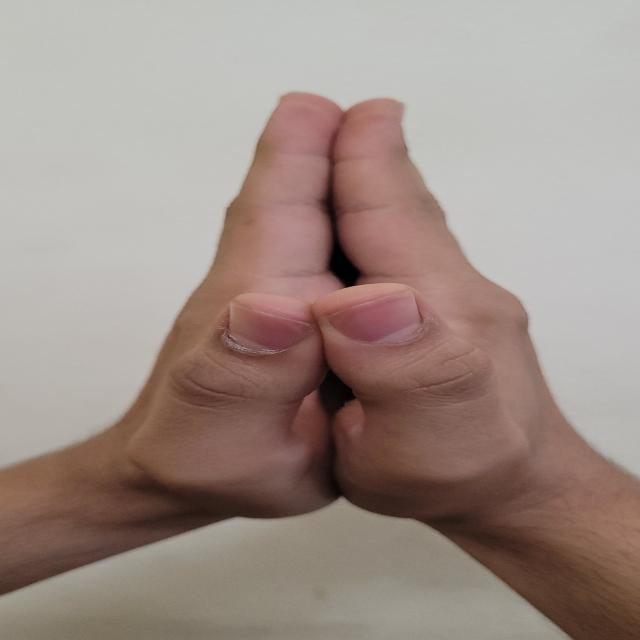Thank You: (30, 49, 636, 611)
